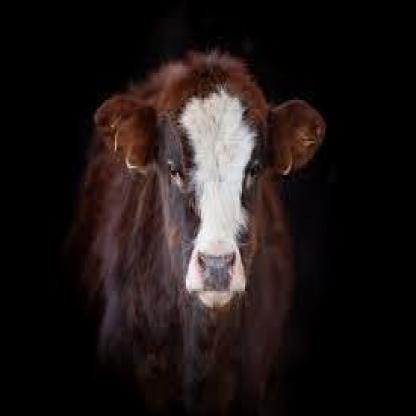cow: (80, 52, 327, 412)
